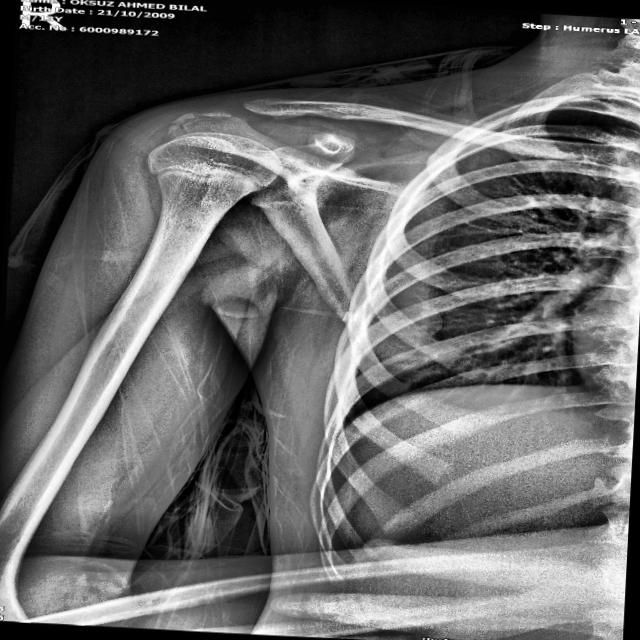Fracture: (248, 192, 342, 213)
